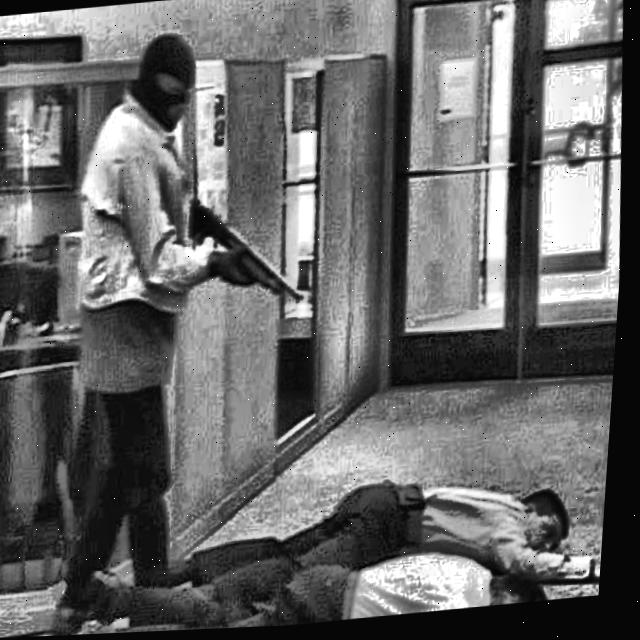robbery: (27, 0, 640, 637)
